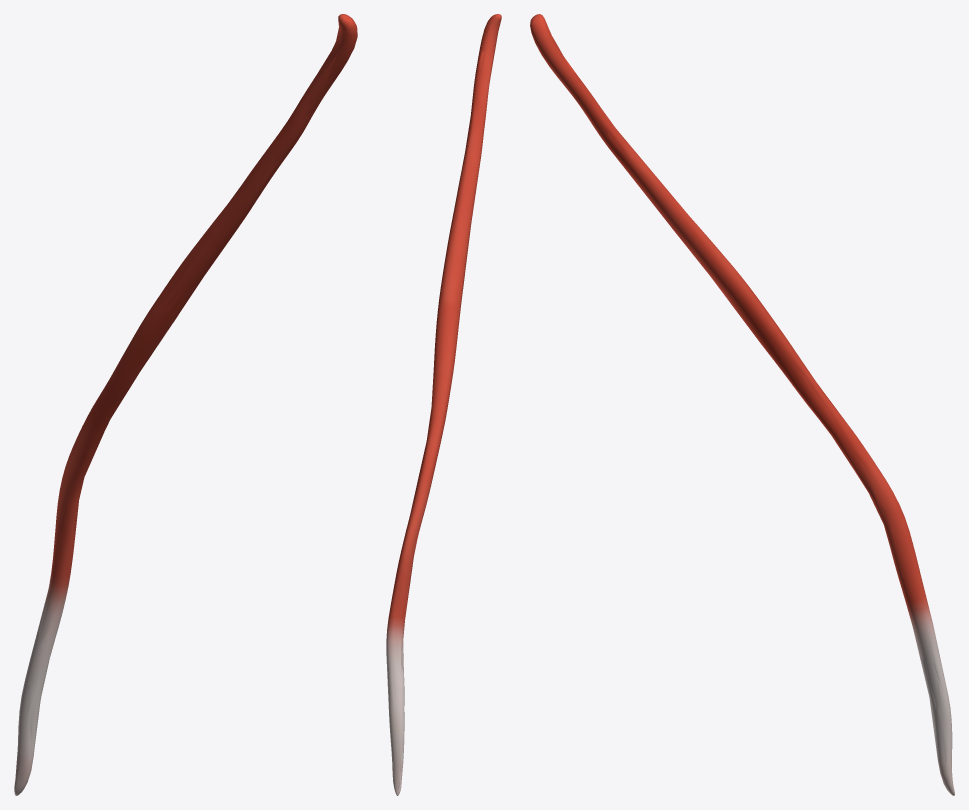
Rendered from L Fibularis Tertius.fbx.
3 views of the same model, side by side, from view 1: azimuth 30°, elevation 25°; view 2: azimuth 150°, elevation 25°; view 3: azimuth 270°, elevation 25° (orthographic). The views are drawn at different scales.
Parts seen in each view (by area): view 1: L Fibularis Tertius, L Fibularis Tertius low; view 2: L Fibularis Tertius, L Fibularis Tertius low; view 3: L Fibularis Tertius, L Fibularis Tertius low.
Part boxes in pixels (x1,y1,x2,y2): L Fibularis Tertius: [14, 14, 357, 795]; L Fibularis Tertius low: [15, 14, 345, 784]; L Fibularis Tertius: [386, 14, 501, 795]; L Fibularis Tertius low: [386, 15, 499, 789]; L Fibularis Tertius: [530, 14, 954, 795]; L Fibularis Tertius low: [546, 25, 953, 788].
Size of the model in its own units: 5.74 by 46.1 by 21.64.
